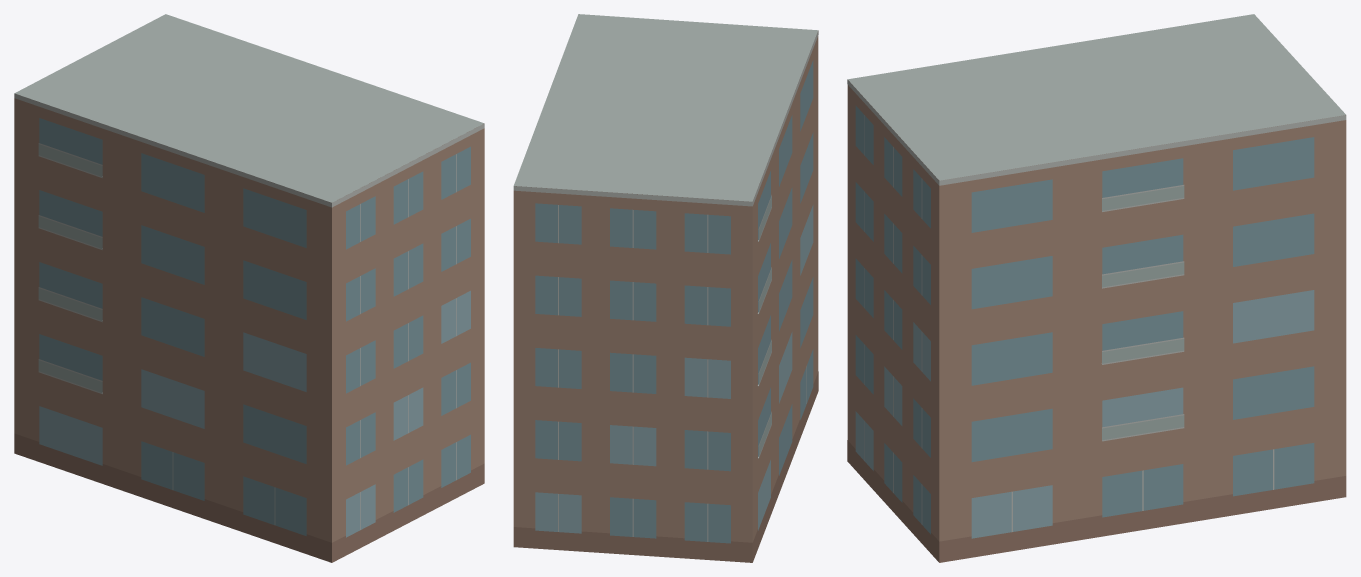
The model's file is survey-upis-32864024.glb.
3 views of the same model, side by side, from view 1: azimuth 30°, elevation 25°; view 2: azimuth 150°, elevation 25°; view 3: azimuth 270°, elevation 25° (orthographic). The views are drawn at different scales.
Parts seen in each view (by area): view 1: survey-upis-32864024.tmp; view 2: survey-upis-32864024.tmp; view 3: survey-upis-32864024.tmp.
Part boxes in pixels (x1=…): survey-upis-32864024.tmp: x1=14, y1=14, x2=484, y2=562; survey-upis-32864024.tmp: x1=513, y1=14, x2=818, y2=562; survey-upis-32864024.tmp: x1=847, y1=14, x2=1346, y2=562.
Bounding box in the file's own units: 17.32 × 18.5 × 21.9.
